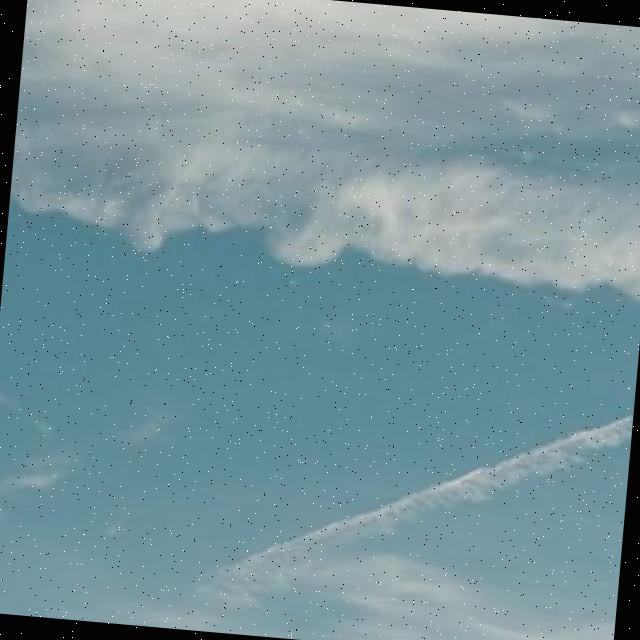Ci: (1, 1, 640, 635)
